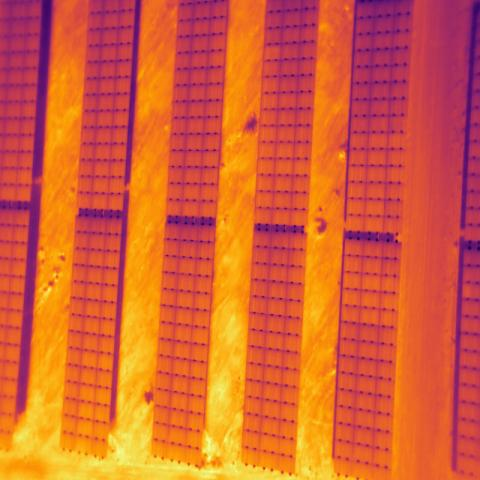fault: (263, 45, 283, 60)
